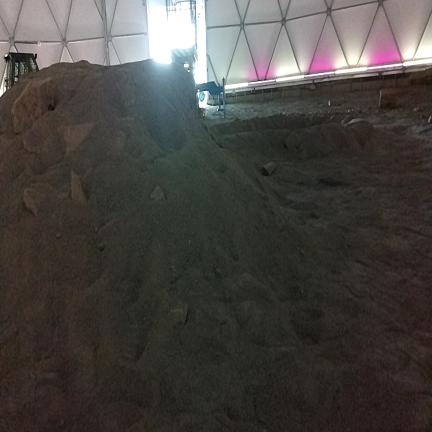Rock: (12, 79, 54, 133), (24, 183, 53, 217), (170, 303, 188, 331), (71, 171, 86, 202), (380, 89, 398, 109), (150, 186, 165, 201), (262, 162, 276, 175), (276, 214, 286, 231), (214, 267, 221, 277), (428, 116, 431, 123)
